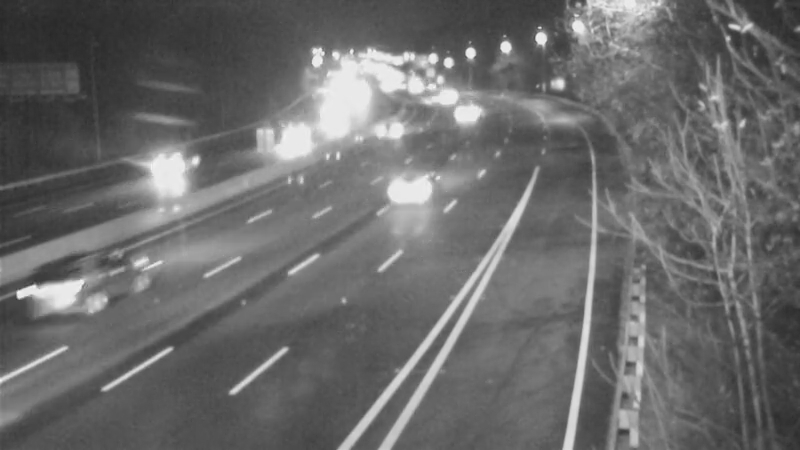vehicle: (372, 152, 452, 232), (14, 248, 94, 328), (133, 126, 213, 206), (385, 64, 435, 114), (423, 69, 473, 119), (405, 69, 455, 119), (441, 88, 491, 138), (366, 106, 416, 156), (276, 112, 326, 162)
